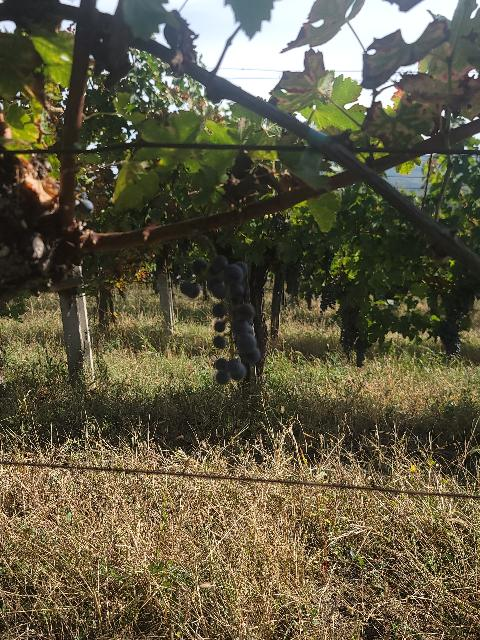grapes: (192, 255, 261, 384), (180, 281, 200, 298)
